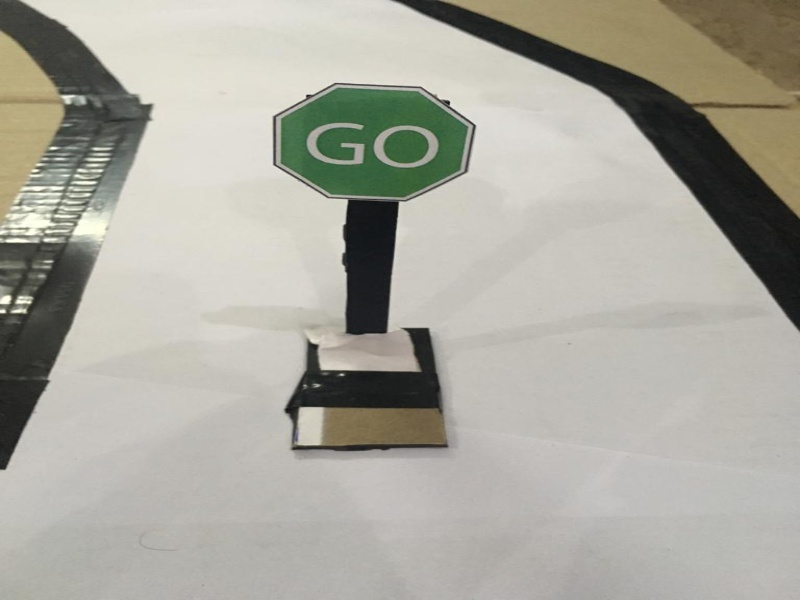Go: (261, 73, 474, 203)
